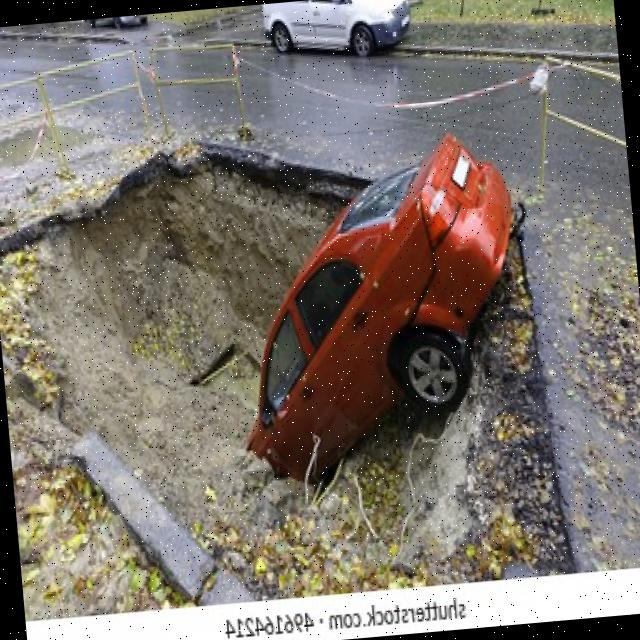road collapse: (0, 56, 640, 636)
